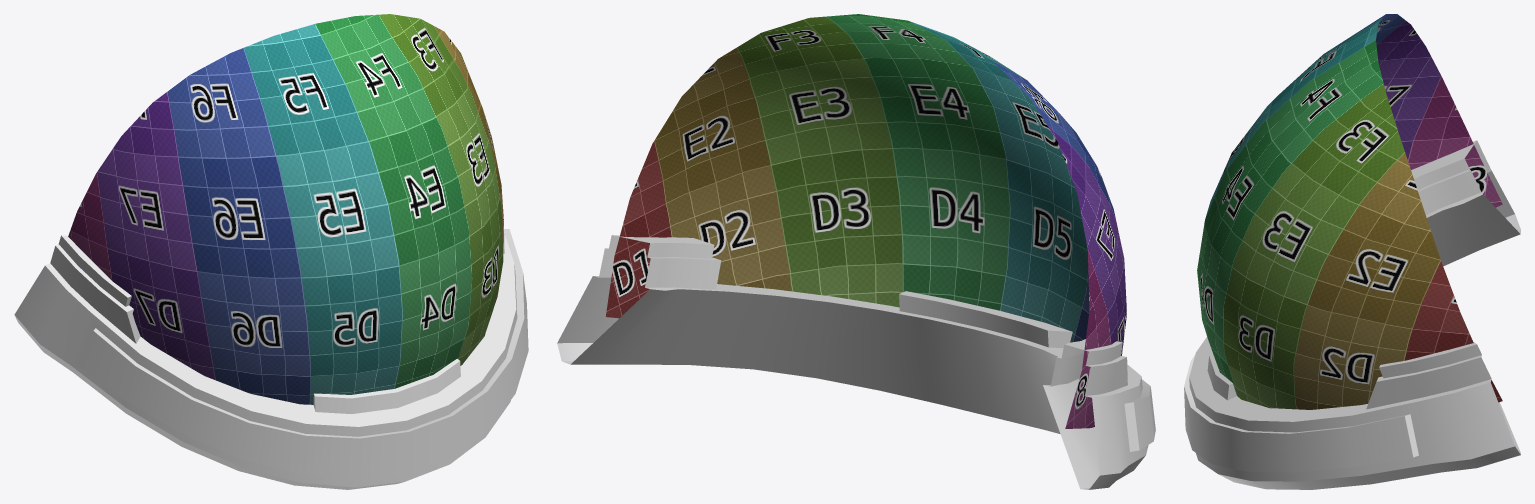
File: SpaceSuitHUDV2.fbx
3 views of the same model, side by side, from view 1: azimuth 30°, elevation 25°; view 2: azimuth 150°, elevation 25°; view 3: azimuth 270°, elevation 25° (orthographic). The views are drawn at different scales.
Parts seen in each view (by area): view 1: HelmetGlass, Helmet; view 2: HelmetGlass, Helmet; view 3: HelmetGlass, Helmet.
Part boxes in pixels (bbox=[...]): HelmetGlass: bbox=[68, 14, 503, 404]; Helmet: bbox=[14, 220, 528, 489]; HelmetGlass: bbox=[605, 14, 1126, 428]; Helmet: bbox=[557, 235, 1155, 489]; HelmetGlass: bbox=[1197, 14, 1502, 409]; Helmet: bbox=[1184, 140, 1520, 489].
Size of the model in its own units: 20.17 by 16.55 by 12.36.
Materials: 2 (1 with a texture image).
